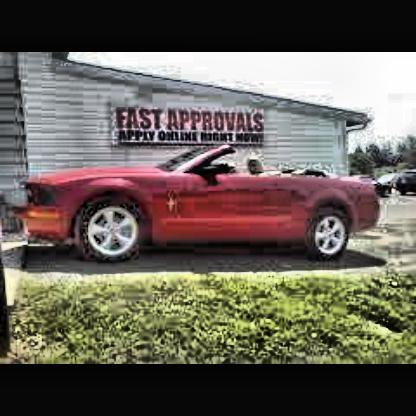Ford Mustang Convertible 2007: (15, 141, 385, 269)
